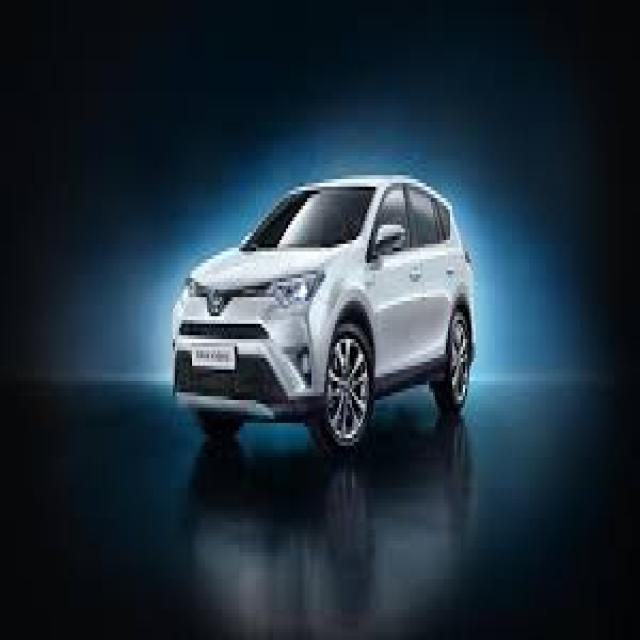light_vehicle: (171, 173, 478, 459)
